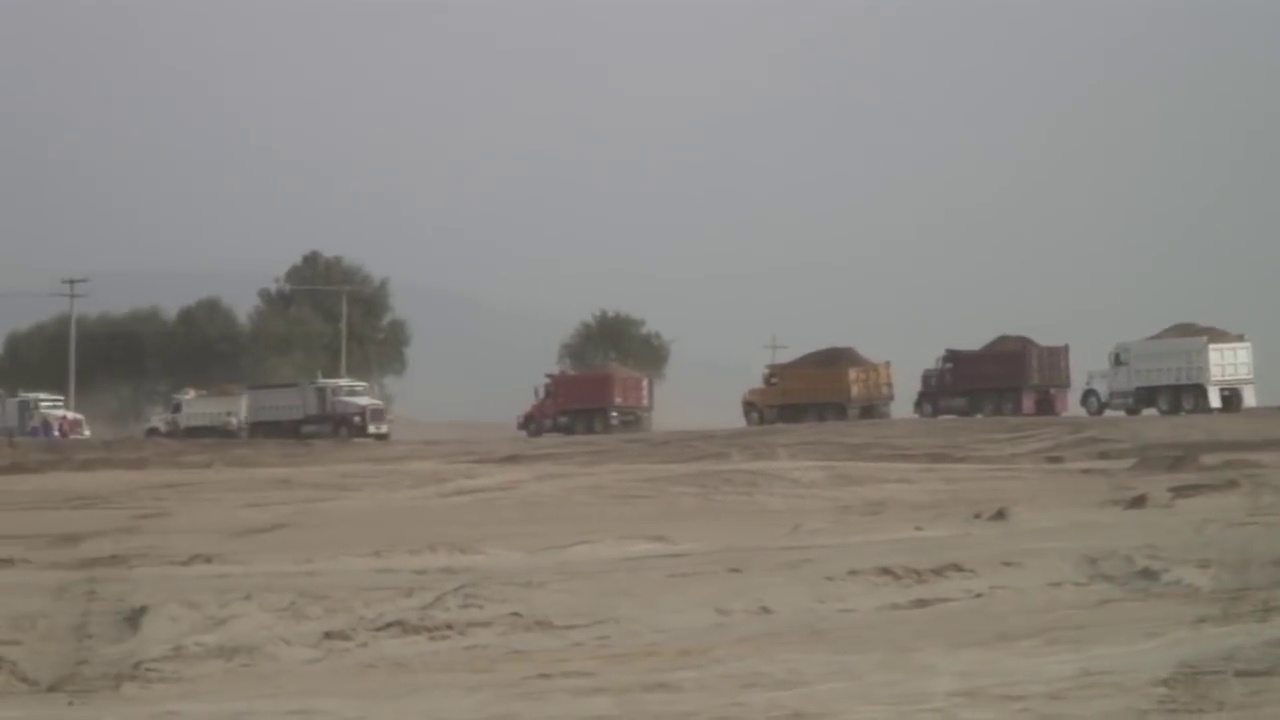truck: (1083, 337, 1255, 416), (916, 346, 1074, 422), (742, 352, 896, 422), (252, 376, 392, 445), (518, 369, 653, 434), (149, 382, 246, 442), (8, 389, 86, 440)
